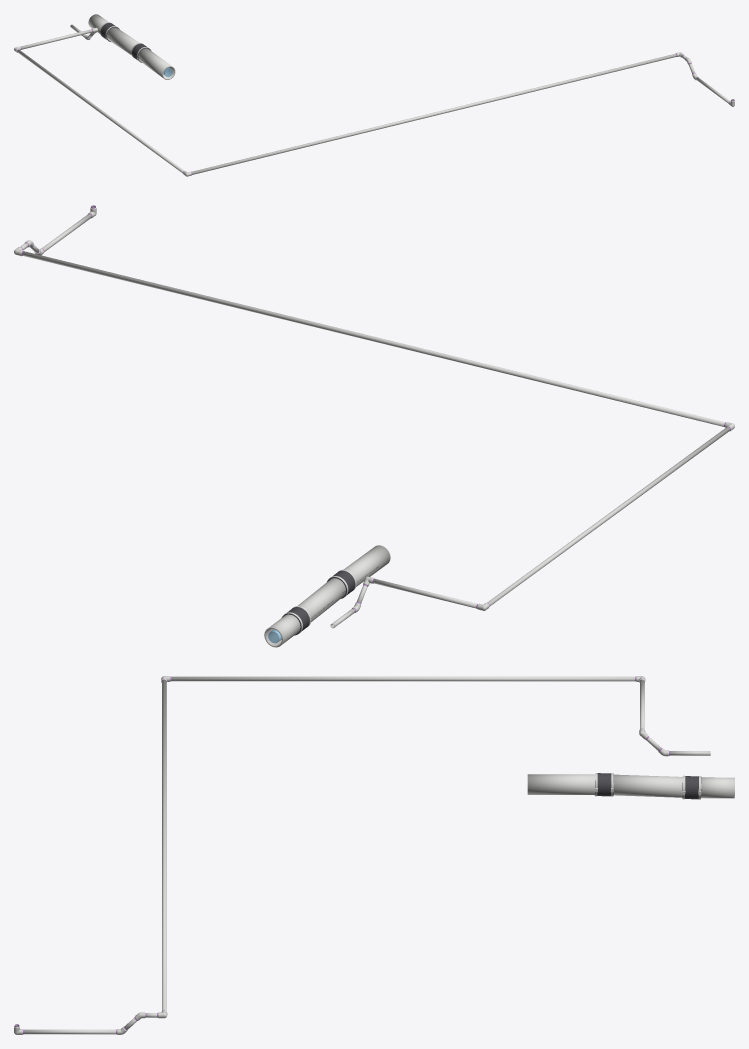
The model's file is pipes_dwv__sewer-septic_spray_fiberglass_train+septic_overland_fiberglass_train.glb.
3 renders of one model, top to bottom at view 1: azimuth 30°, elevation 25°; view 2: azimuth 150°, elevation 25°; view 3: azimuth 270°, elevation 25°, orthographic. The views are drawn at different scales.
Visible parts, largest first — view 1: pipe_septic_air_line_fglass, pipe_dwv_effluent_fglass; view 2: pipe_septic_air_line_fglass, pipe_dwv_effluent_fglass; view 3: pipe_septic_air_line_fglass, pipe_dwv_effluent_fglass.
Boxes of the visible parts, x1,y1,x2,y2 form: pipe_septic_air_line_fglass: (14,24,734,176); pipe_dwv_effluent_fglass: (88,14,175,79); pipe_septic_air_line_fglass: (14,205,734,628); pipe_dwv_effluent_fglass: (264,545,390,647); pipe_septic_air_line_fglass: (14,676,710,1034); pipe_dwv_effluent_fglass: (527,773,734,799).
Bounding box in the file's own units: 4.36 × 0.2753 × 3.92.
